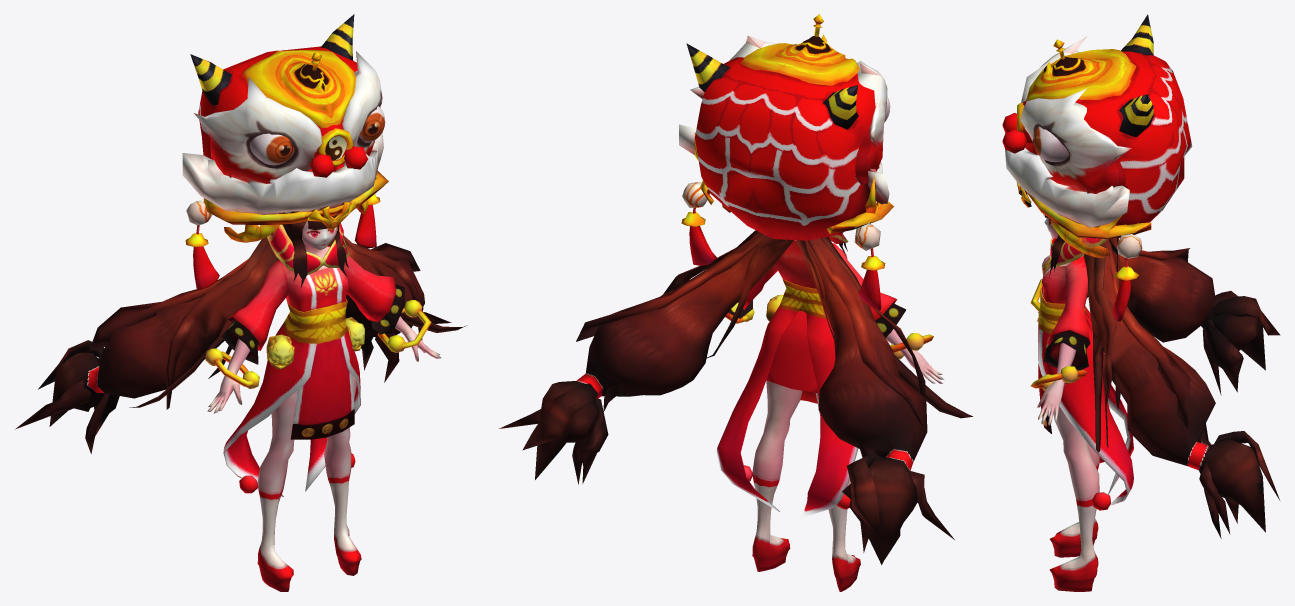
Rendered from lion_dance_girl.glb.
3 renders of one model, left to right at view 1: azimuth 30°, elevation 25°; view 2: azimuth 150°, elevation 25°; view 3: azimuth 270°, elevation 25°, orthographic. The views are drawn at different scales.
Visible parts, largest first — view 1: Object_2, Object_3; view 2: Object_2, Object_3; view 3: Object_2, Object_3.
Part boxes in pixels (x1,y1,x2,y2): Object_2: [15, 211, 467, 591]; Object_3: [182, 14, 388, 369]; Object_2: [499, 230, 972, 591]; Object_3: [679, 14, 893, 321]; Object_2: [1030, 214, 1280, 591]; Object_3: [1002, 14, 1192, 347].
Size of the model in its own units: 764 by 886 by 421.
Materials: 2 (2 with a texture image).
